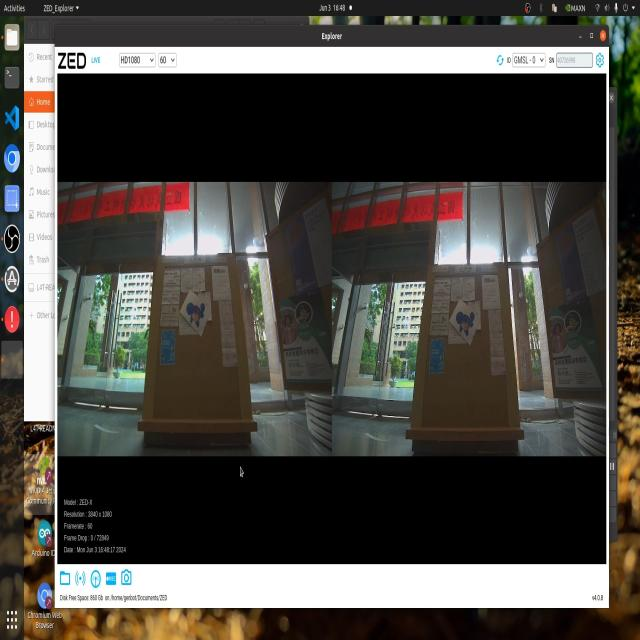blue: (183, 289, 209, 326), (458, 304, 473, 344)
